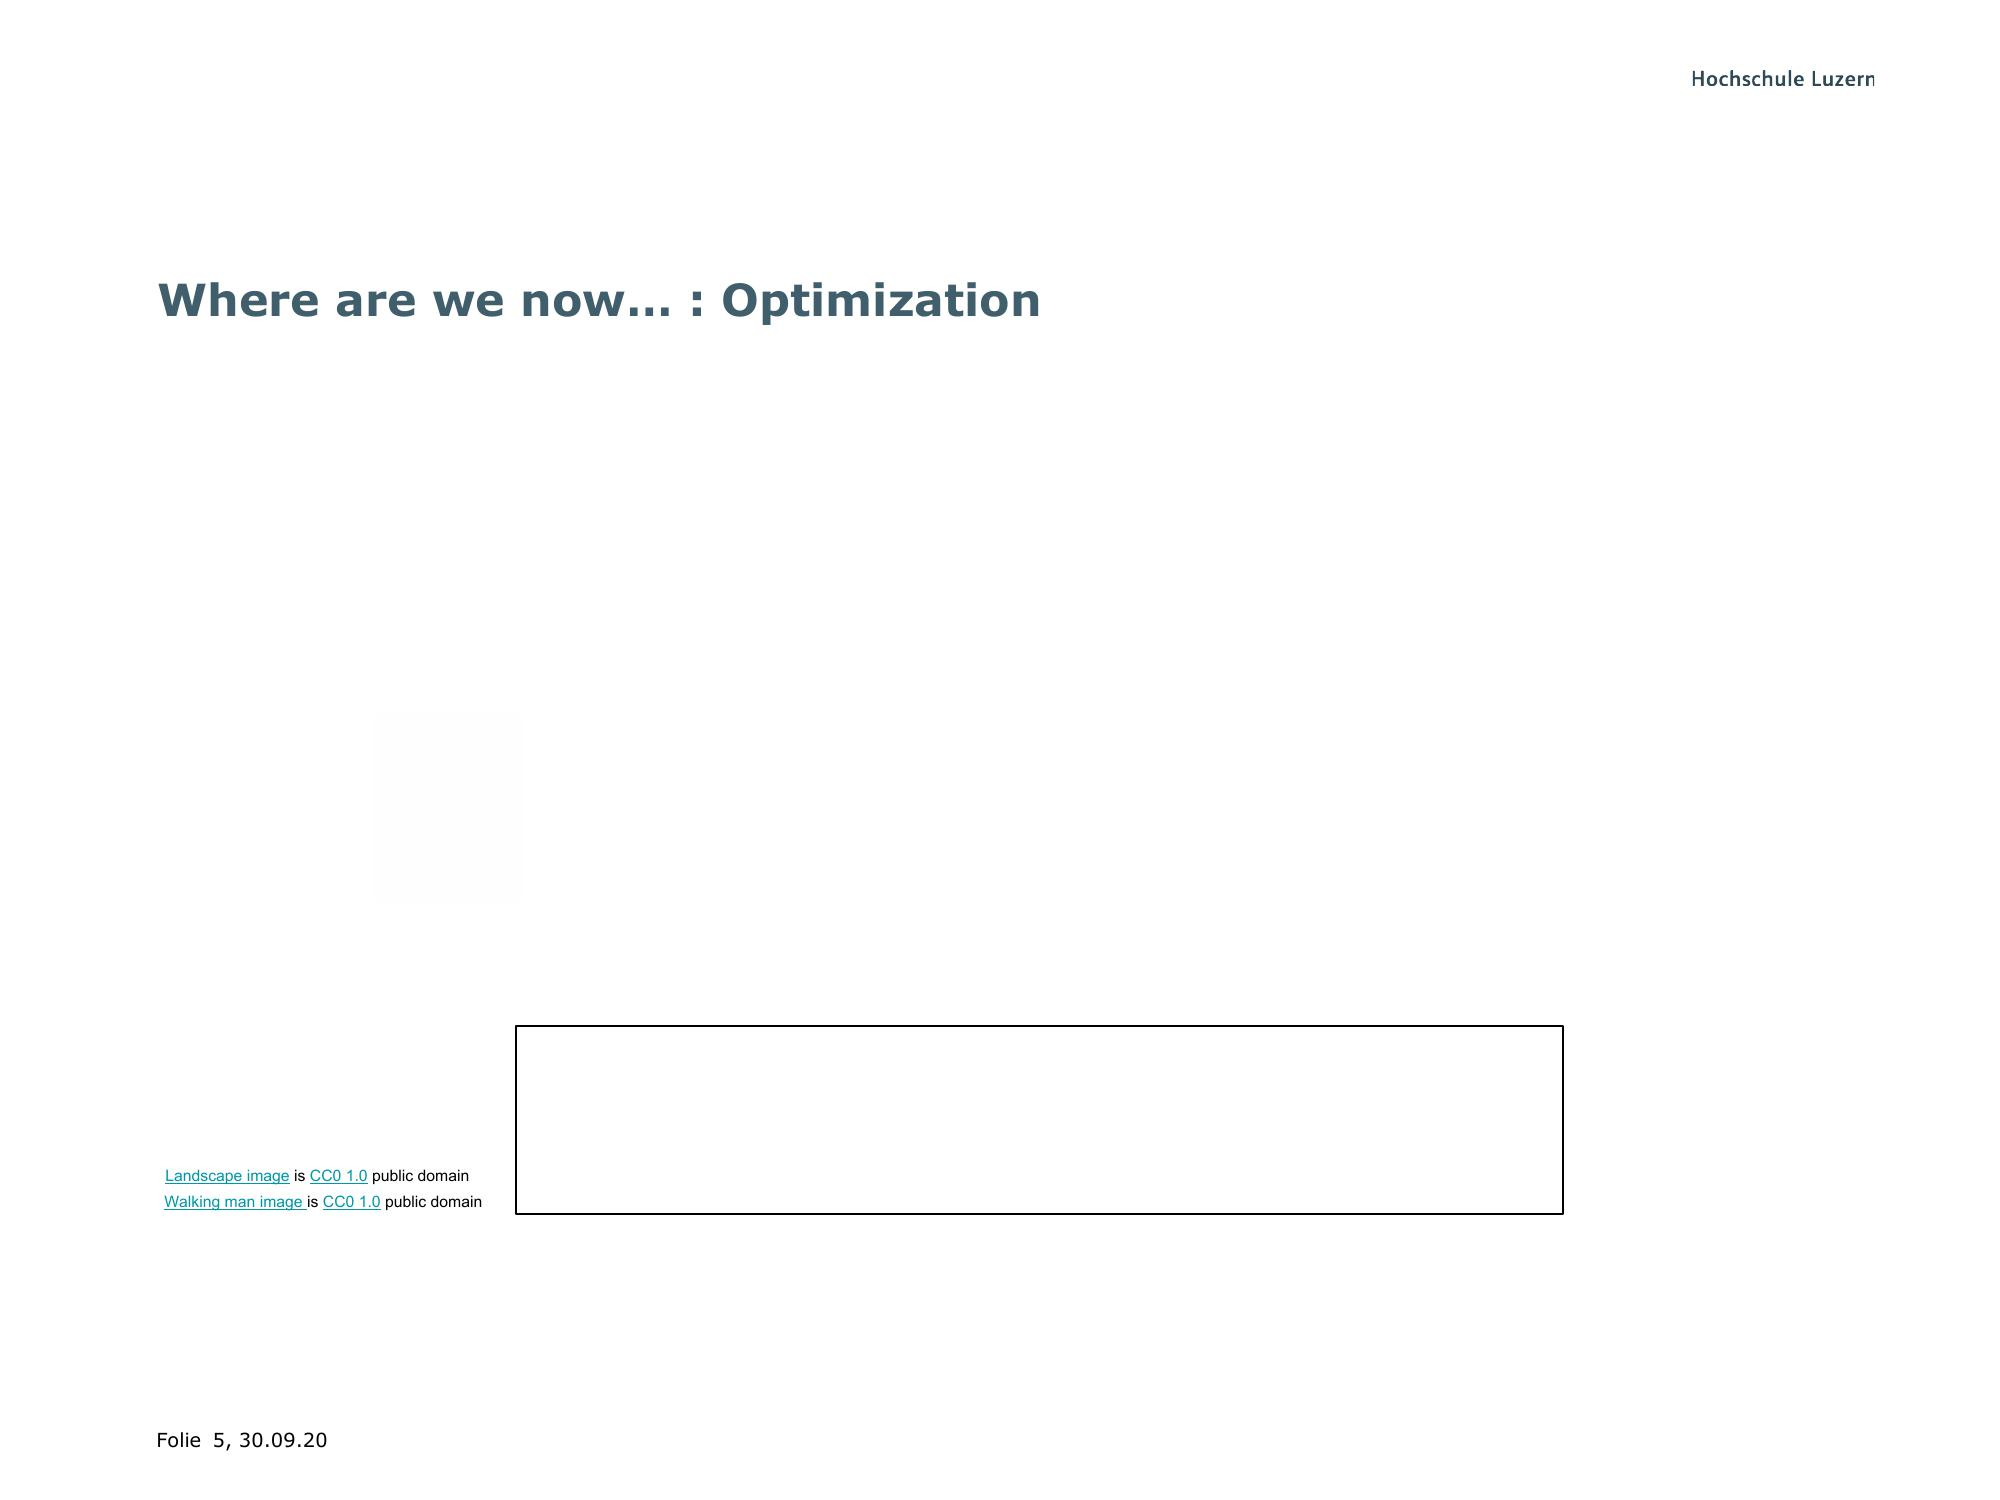Title: (128, 246, 1054, 347)
